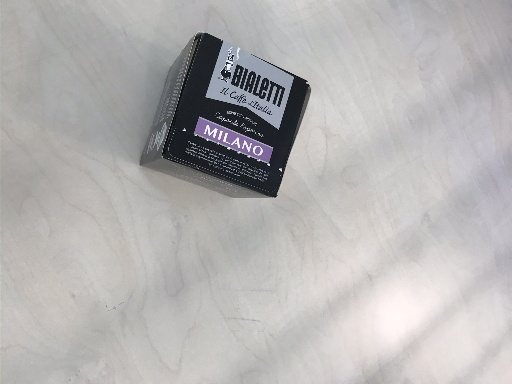Caffe: (139, 32, 313, 198)
